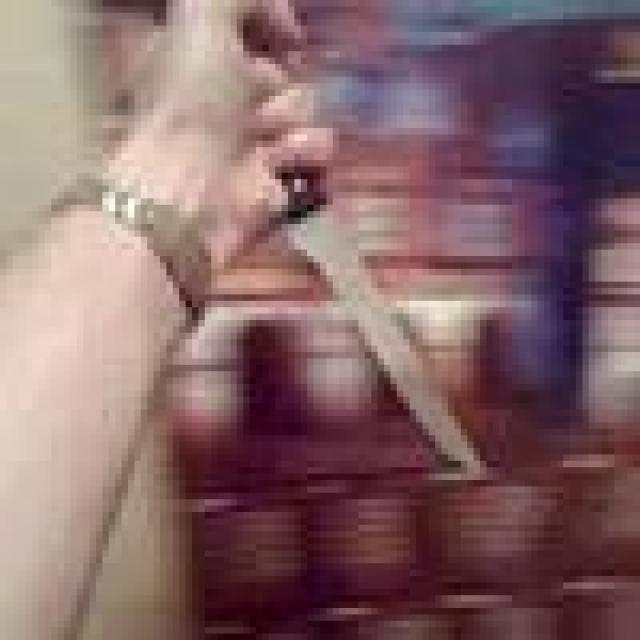knife: (279, 220, 474, 462)
